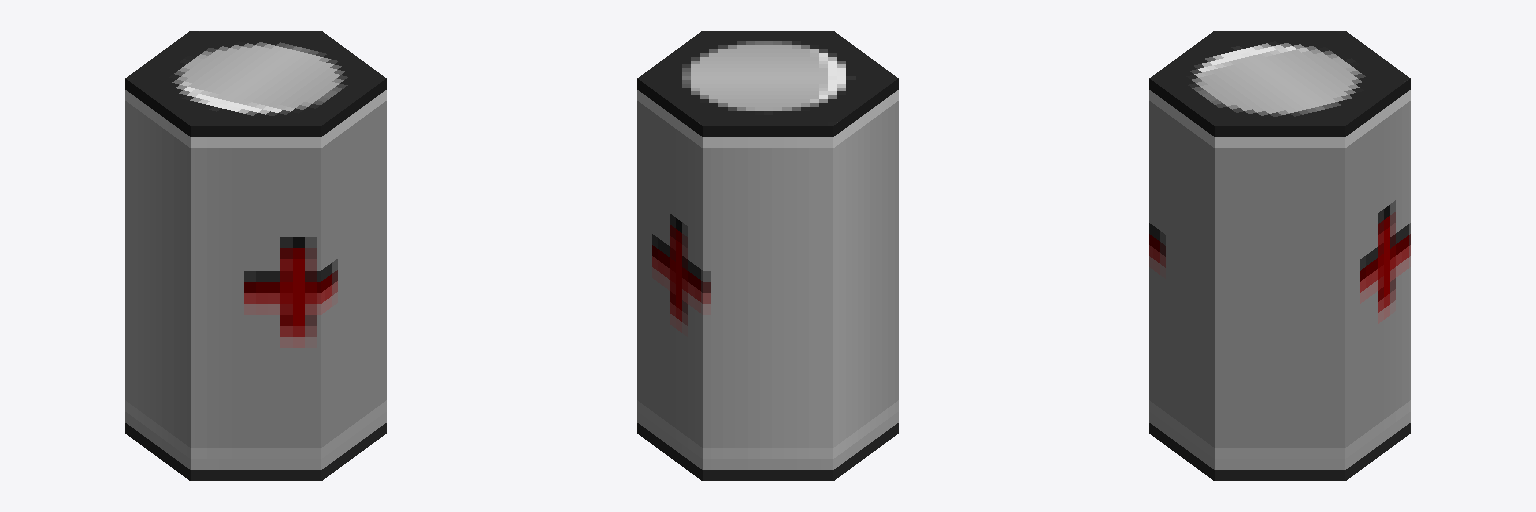
The picture shows the model from 3 angles: view 1: azimuth 30°, elevation 25°; view 2: azimuth 150°, elevation 25°; view 3: azimuth 270°, elevation 25°; orthographic projection.
Parts seen in each view (by area): view 1: Cylinder_Cylinder.001; view 2: Cylinder_Cylinder.001; view 3: Cylinder_Cylinder.001.
Boxes of the visible parts, x1,y1,x2,y2 form: Cylinder_Cylinder.001: [125, 31, 386, 480]; Cylinder_Cylinder.001: [637, 31, 898, 480]; Cylinder_Cylinder.001: [1149, 31, 1410, 480].
Size of the model in its own units: 1.73 by 3 by 2.
Materials: 1 (1 with a texture image).